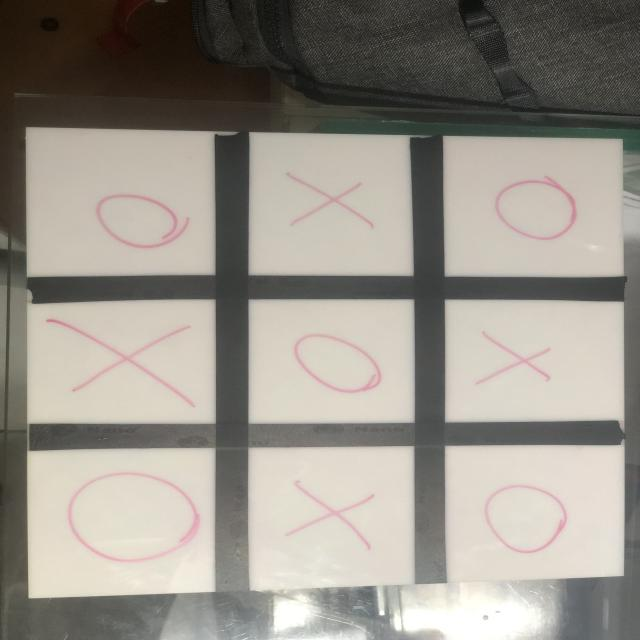o: (65, 466, 204, 567), (479, 480, 574, 561), (289, 326, 388, 399), (84, 187, 189, 251), (490, 177, 583, 243)
table: (21, 125, 625, 603)
x: (44, 312, 196, 411), (282, 169, 388, 242), (280, 479, 383, 553), (475, 326, 561, 393)
